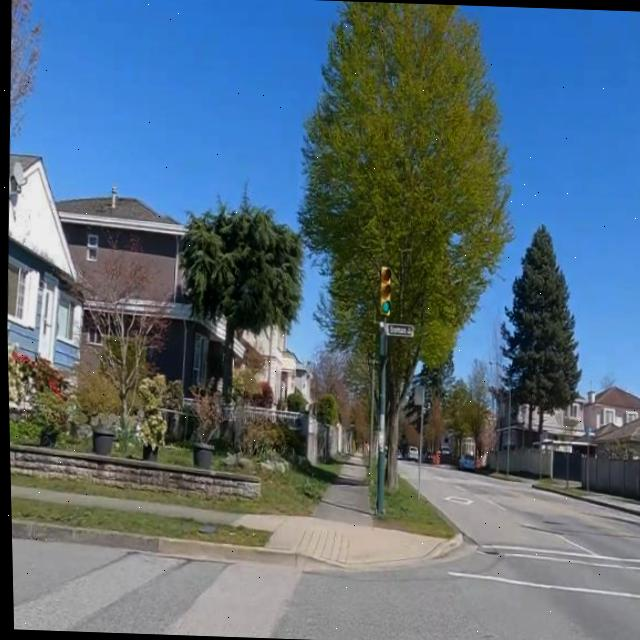Obstacle: (8, 444, 257, 497), (9, 497, 265, 545), (151, 466, 333, 514), (377, 479, 450, 537), (372, 266, 389, 514), (387, 482, 446, 535), (8, 474, 113, 492), (383, 357, 397, 488), (303, 411, 315, 465), (90, 430, 111, 454), (191, 443, 209, 469), (140, 445, 154, 460)
Road: (9, 467, 640, 640)
Sidewalk: (8, 484, 286, 532), (262, 516, 451, 565), (310, 457, 370, 523)
